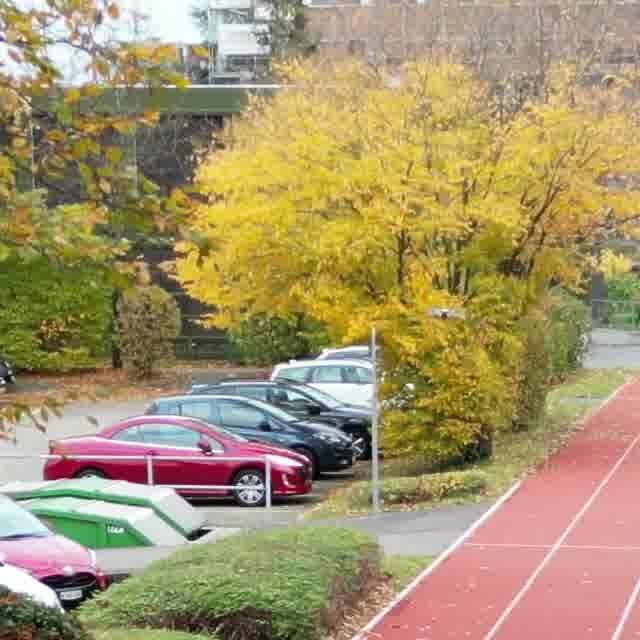Drohne: (428, 308, 464, 318)
